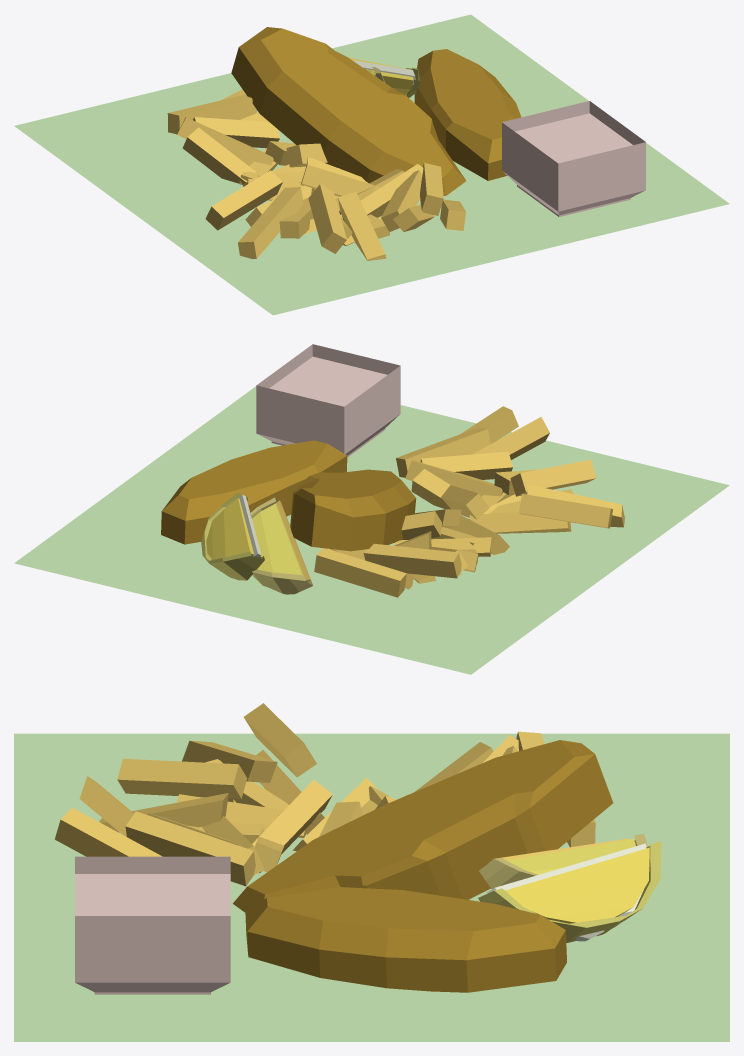
File: FishNChips.fbx
The picture shows the model from 3 angles, top to bottom: view 1: azimuth 30°, elevation 25°; view 2: azimuth 150°, elevation 25°; view 3: azimuth 270°, elevation 25°; orthographic projection. The views are drawn at different scales.
Visible parts, largest first — view 1: Chips; view 2: Chips; view 3: Chips.
Part boxes in pixels (bbox=[...]): Chips: bbox=[14, 14, 729, 315]; Chips: bbox=[14, 344, 729, 674]; Chips: bbox=[14, 703, 729, 1041].
Size of the model in its own units: 15.08 by 4.09 by 14.8.
